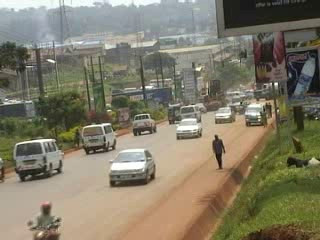Car: (106, 145, 156, 189), (174, 116, 204, 143), (213, 104, 238, 126), (168, 101, 186, 126), (192, 101, 209, 114)
Motorcycle: (22, 199, 66, 236), (237, 97, 248, 113)
